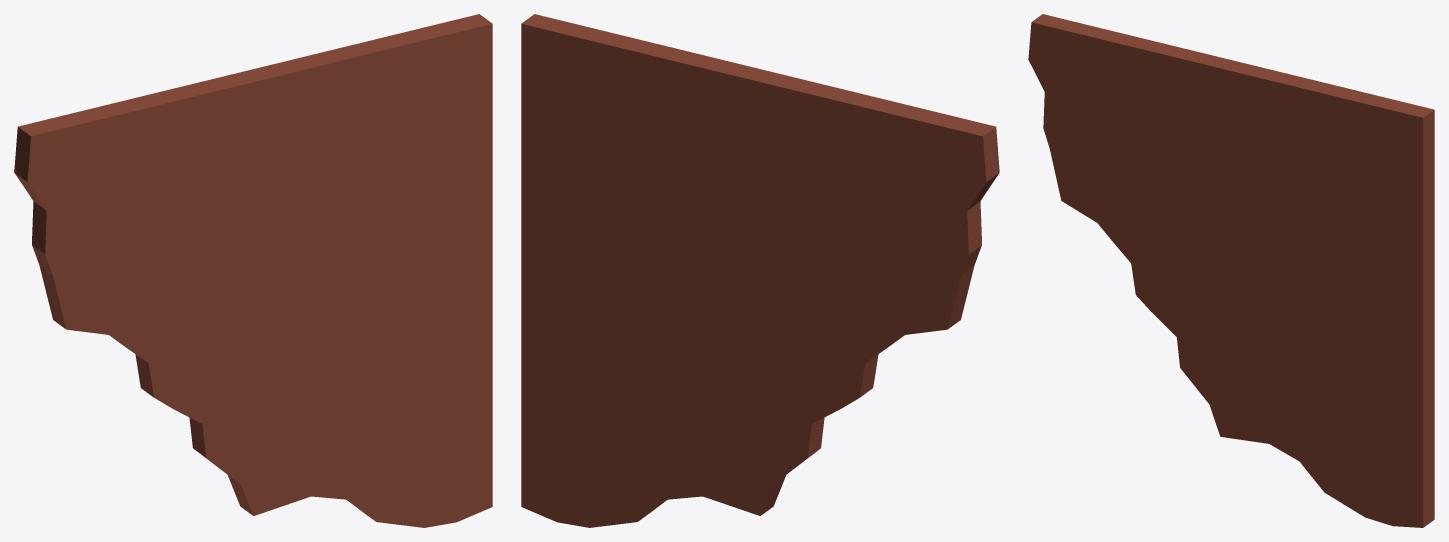
Rendered from tile12.001.glb.
3 views of the same model, side by side, from view 1: azimuth 30°, elevation 25°; view 2: azimuth 150°, elevation 25°; view 3: azimuth 330°, elevation 25° (orthographic). The views are drawn at different scales.
Parts seen in each view (by area): view 1: 12.001; view 2: 12.001; view 3: 12.001.
Part boxes in pixels (<box>): 12.001: <box>14,14,492,527</box>; 12.001: <box>521,14,999,527</box>; 12.001: <box>1028,14,1434,527</box>.
Size of the model in its own units: 2.02 by 2.03 by 0.1.
1 material, 1 textured.
